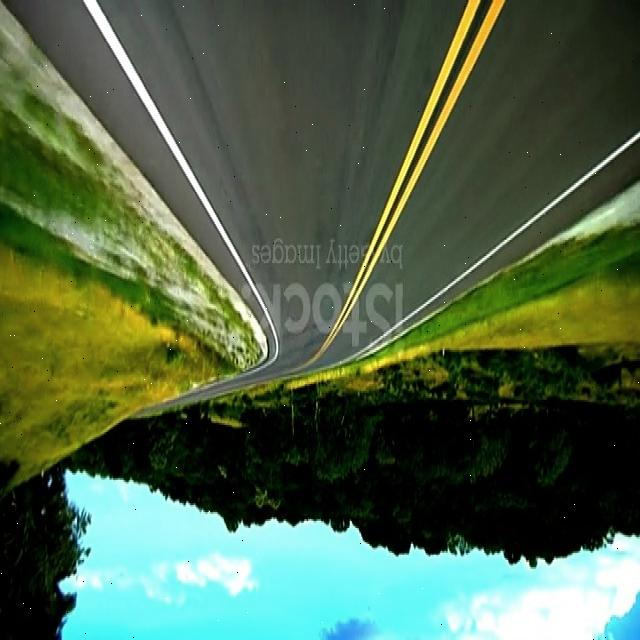lane: (306, 3, 504, 365), (85, 4, 275, 337), (423, 132, 640, 308)
road: (4, 1, 635, 400)
